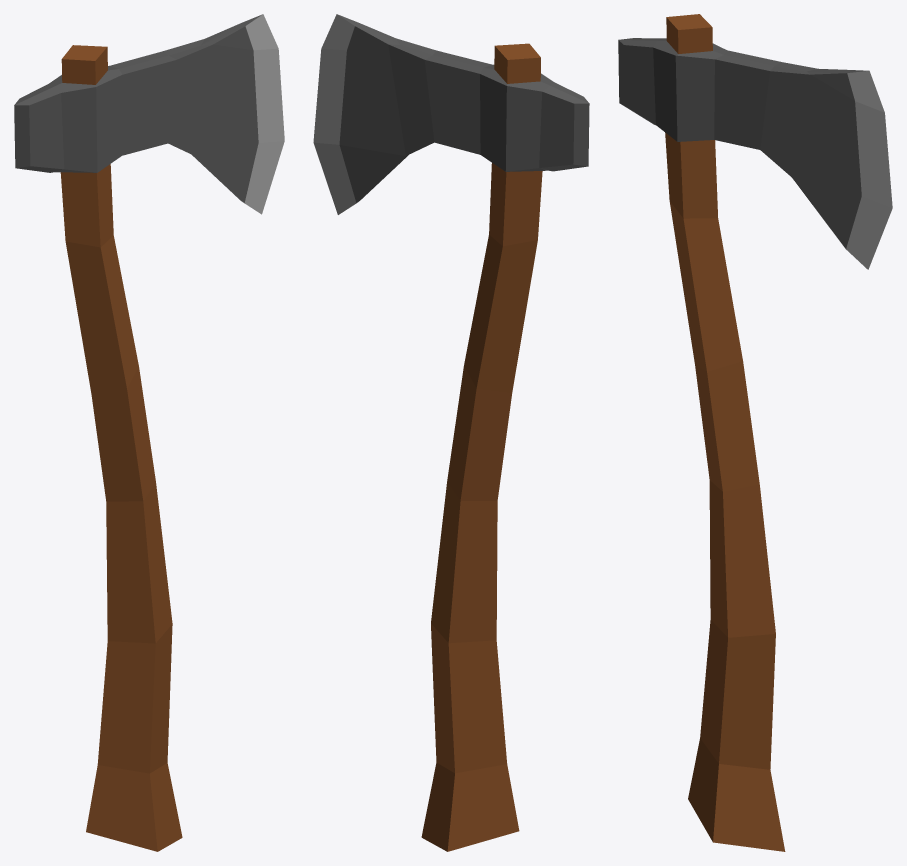
The model's file is Low Poly Weapon Pack - by Kickin It Studios.fbx_Hatchet.glb.
The picture shows the model from 3 angles, left to right: view 1: azimuth 30°, elevation 25°; view 2: azimuth 150°, elevation 25°; view 3: azimuth 330°, elevation 25°; orthographic projection.
Parts seen in each view (by area): view 1: Hatchet; view 2: Hatchet; view 3: Hatchet.
Part boxes in pixels (<box>): Hatchet: <box>14,14,284,851</box>; Hatchet: <box>313,14,589,851</box>; Hatchet: <box>618,14,892,851</box>.
Bounding box in the file's own units: 0.2729 × 0.7722 × 0.0819.
